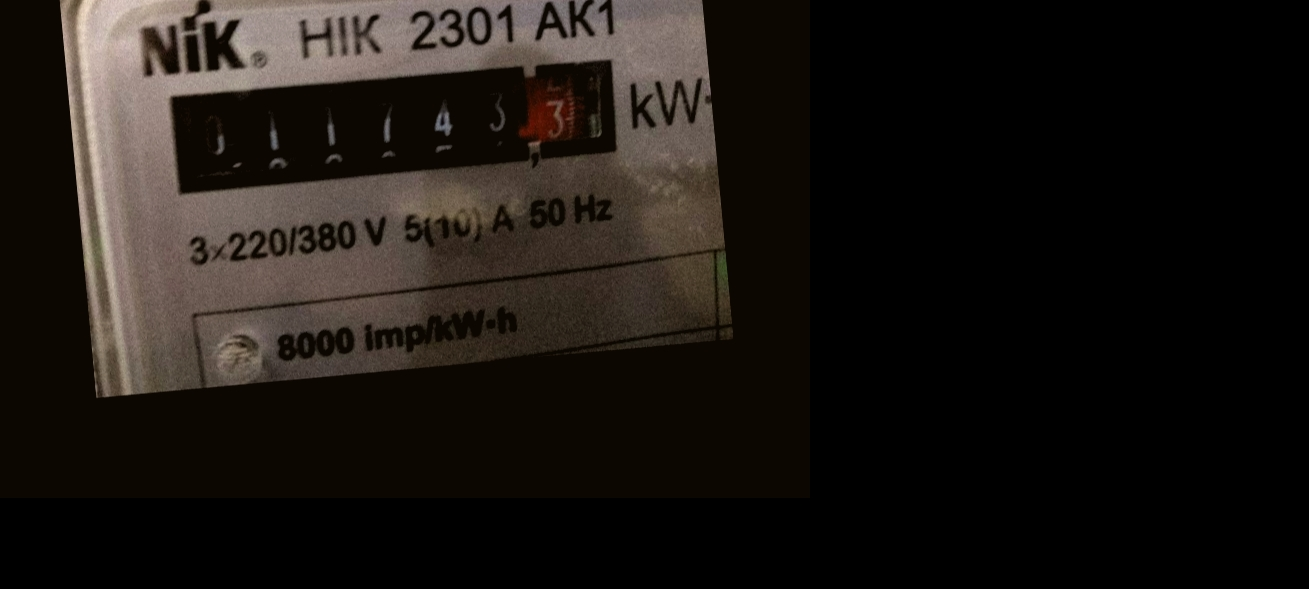0: (197, 109, 231, 158)
1: (317, 100, 342, 149), (262, 105, 284, 154)
3: (481, 86, 513, 135), (542, 95, 570, 141)
4: (427, 90, 459, 140)
7: (373, 96, 401, 146)
screen: (153, 45, 628, 205)
